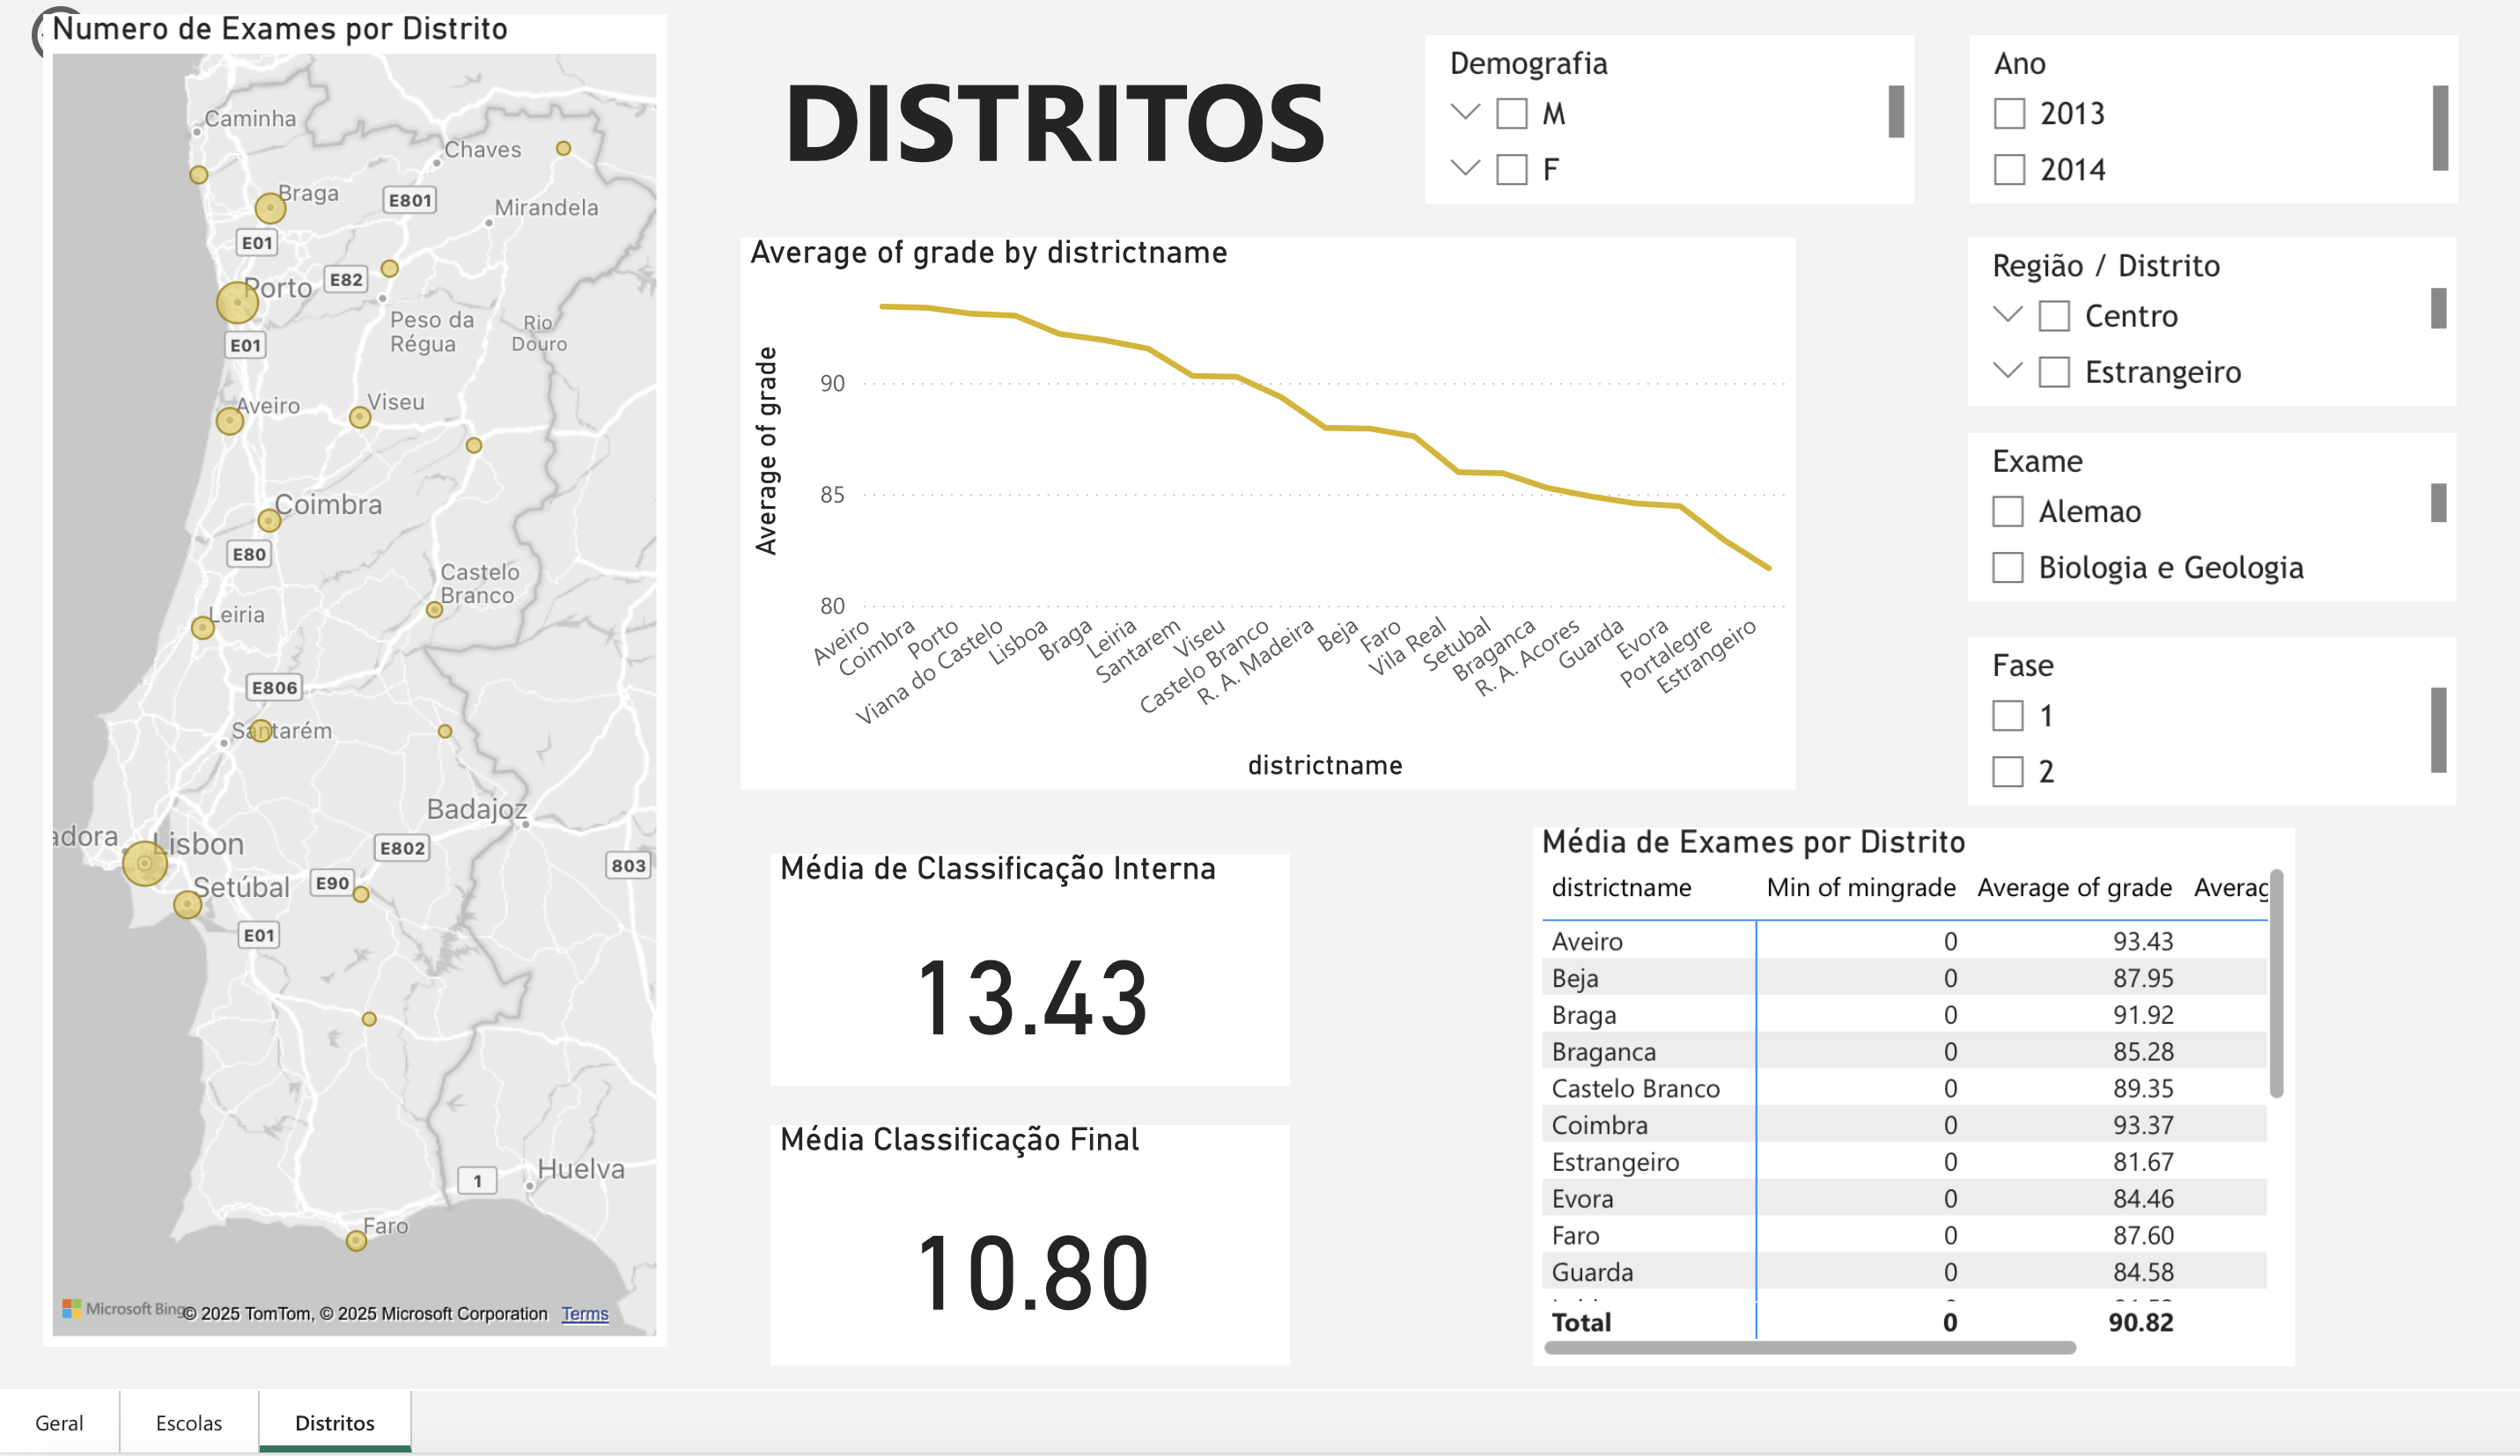

Layout of this report page (visuals, bound fields, positions):
{"tool":"powerbi","page":{"name":"Distritos","canvas":[1280,720],"ordinal":2},"visuals":[{"type":"actionButton","box":[0,0,100,40],"z":0},{"type":"map","title":"Numero de Exames por Distrito","fields":{"Category":["dim_district.districtname"],"Size":["Sum(analytics_grades_school.nrexams)"]},"box":[10.9,9.1,322.7,689.1],"z":1000},{"type":"pivotTable","title":"Média de Exames por Distrito","fields":{"Values":["Min(analytics_grades_district.mingrade)","Avg(grades.grade)","Avg(analytics_grades_district.maxgrade)"],"Rows":["dim_district.districtname"]},"box":[781.4,429.2,394.3,278.6],"z":2000},{"type":"group","id":"g1","title":"Grupo 1","box":[1006.9,19.7,252.6,86.9],"z":3000},{"type":"slicer","fields":{"Values":["dim_district.region","dim_district.districtname"]},"box":[1005.7,124.3,252.9,87.1],"z":4000},{"type":"slicer","fields":{"Values":["dim_exam.examname"]},"box":[1005.7,225.7,252.9,87.1],"z":5000},{"type":"slicer","fields":{"Values":["dim_phase.phase"]},"box":[1005.7,331.4,252.9,87.1],"z":6000},{"type":"card","title":"Média de Classificação Interna","fields":{"Values":["Avg(grades.cif)"]},"box":[387.1,443.5,268.6,120],"z":7000},{"type":"slicer","fields":{"Values":["dim_year.year"]},"box":[1006.9,19.7,252.6,86.9],"z":8000,"group":"g1"},{"type":"card","title":"Média Classificação Final","fields":{"Values":["Avg(grades.cfd)"]},"box":[387.1,583.5,268.6,124.3],"z":8000},{"type":"textbox","box":[372,20,323,104],"z":9000},{"type":"slicer","fields":{"Values":["dim_studentdemographic.sex","dim_studentdemographic.agecategory","dim_studentdemographic.age"]},"box":[725.7,20,252.9,87.1],"z":10000},{"type":"lineChart","fields":{"Category":["dim_district.districtname"],"Y":["Avg(grades.grade)"]},"box":[371.4,124.3,545.7,285.7],"z":11000}]}

Visuals, with their boxes on the page's 1280x720 design canvas (x1, y1, x2, y2). These are canvas units, not pixel positions in the 2520x1456 screenshot, which may show the page scaled, cropped or inside an application window:
actionButton: box=[0, 0, 100, 40]
"Numero de Exames por Distrito" map: box=[11, 9, 334, 698]
"Média de Exames por Distrito" pivotTable: box=[781, 429, 1176, 708]
"Grupo 1" group: box=[1007, 20, 1260, 107]
slicer - dim_district.region x dim_district.districtname: box=[1006, 124, 1259, 211]
slicer - dim_exam.examname: box=[1006, 226, 1259, 313]
slicer - dim_phase.phase: box=[1006, 331, 1259, 418]
"Média de Classificação Interna" card: box=[387, 444, 656, 564]
slicer - dim_year.year: box=[1007, 20, 1260, 107]
"Média Classificação Final" card: box=[387, 584, 656, 708]
textbox: box=[372, 20, 695, 124]
slicer - dim_studentdemographic.sex x dim_studentdemographic.agecategory: box=[726, 20, 979, 107]
lineChart - dim_district.districtname x Avg(grades.grade): box=[371, 124, 917, 410]
